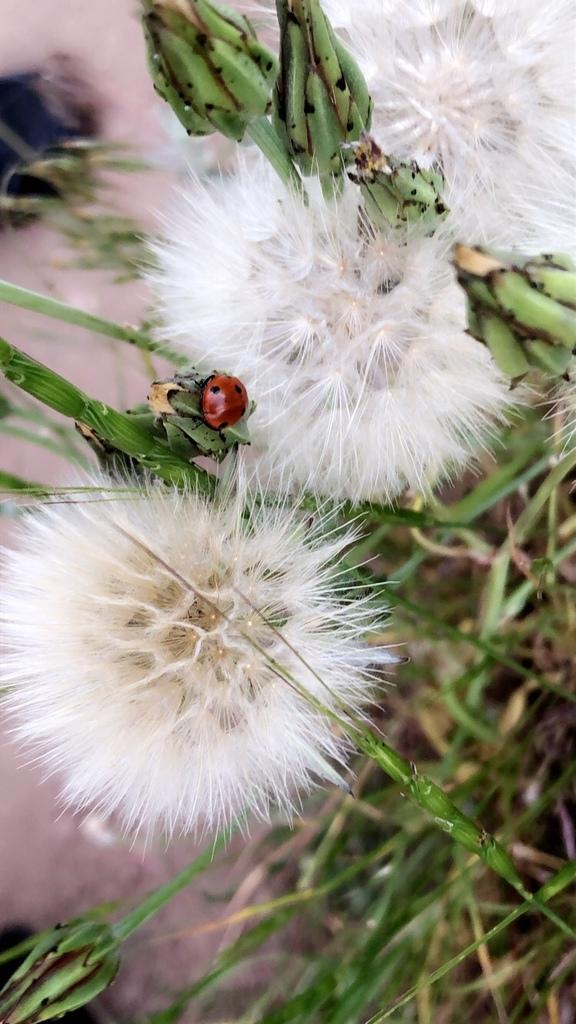ladybug: (191, 369, 252, 446)
